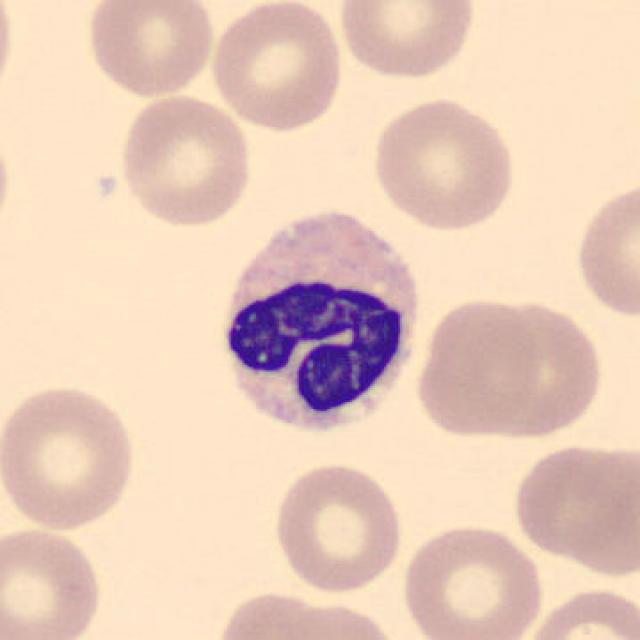Neutrophil: (206, 199, 428, 450)
RBC: (0, 379, 142, 534), (368, 93, 519, 233), (114, 90, 254, 231), (411, 294, 544, 441), (475, 296, 608, 441), (268, 458, 406, 596), (206, 0, 347, 134), (397, 520, 548, 640), (508, 437, 636, 575), (82, 0, 218, 99), (0, 522, 107, 640), (334, 0, 480, 83), (570, 174, 640, 320), (211, 587, 345, 640), (519, 583, 640, 640), (279, 599, 404, 640), (0, 2, 18, 104), (0, 122, 14, 243)
